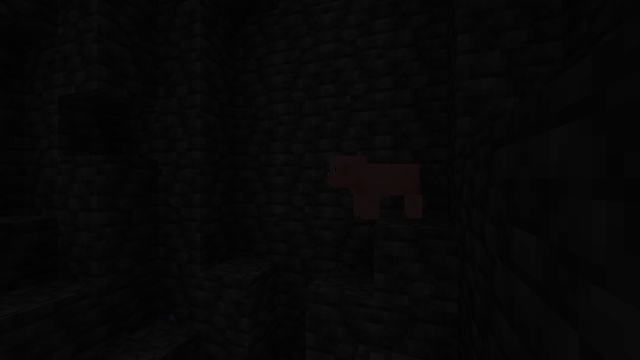cochons: (350, 161, 409, 221)
